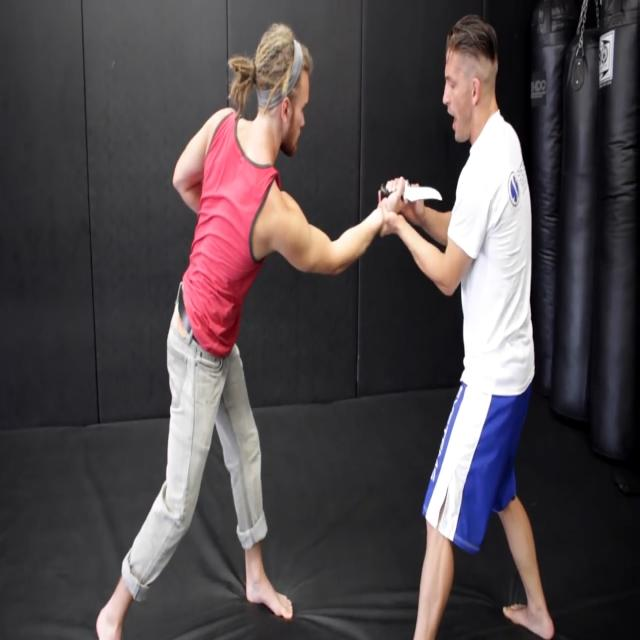knife: (378, 184, 446, 207)
